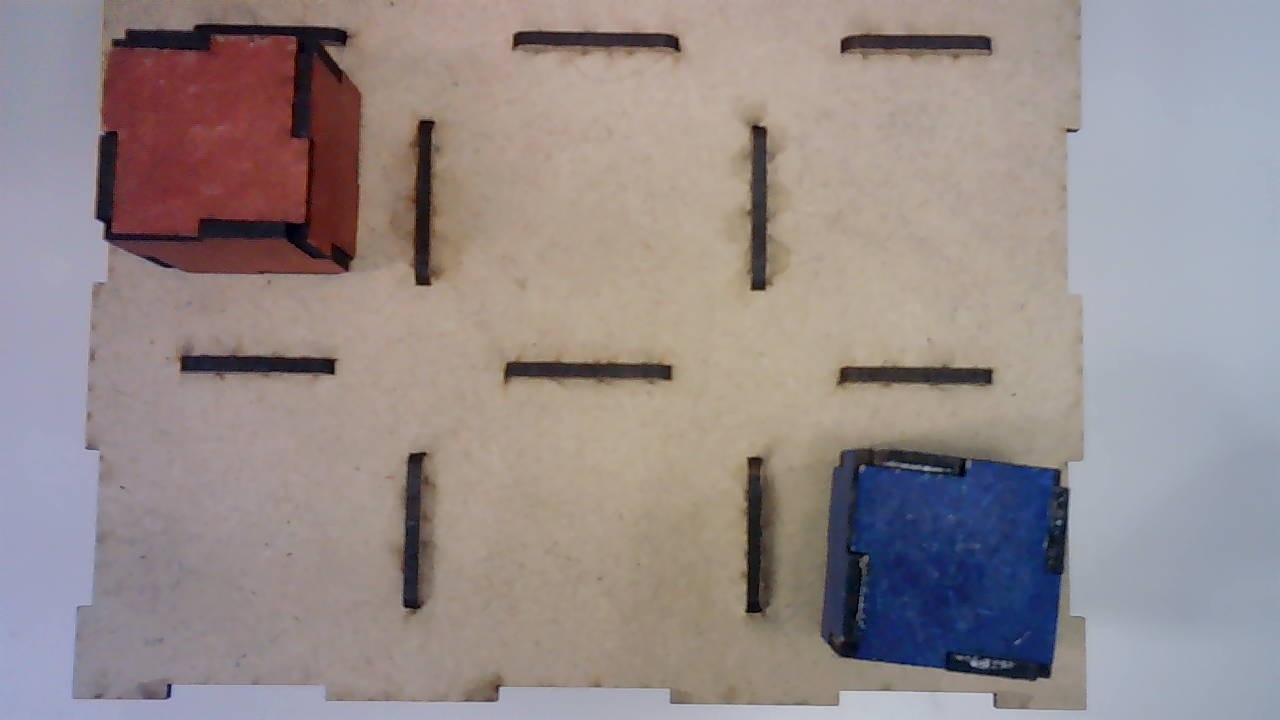blue box: (826, 447, 1065, 692)
red box: (89, 29, 363, 274)
